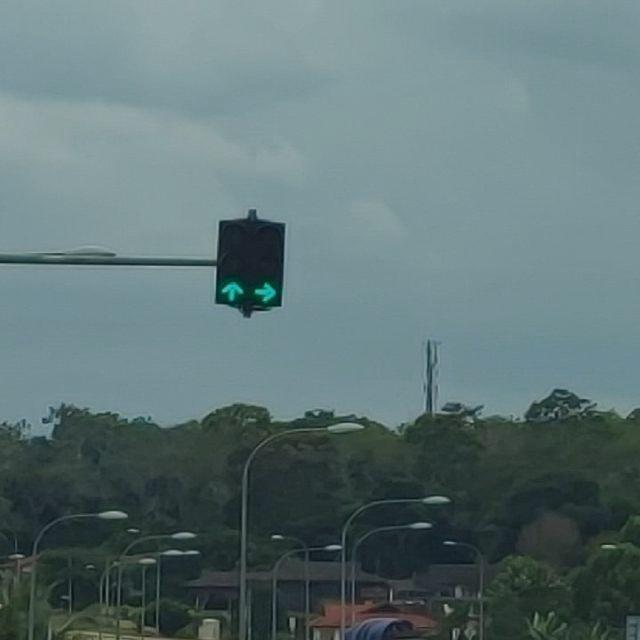Green: (250, 216, 284, 308), (217, 216, 251, 306)
